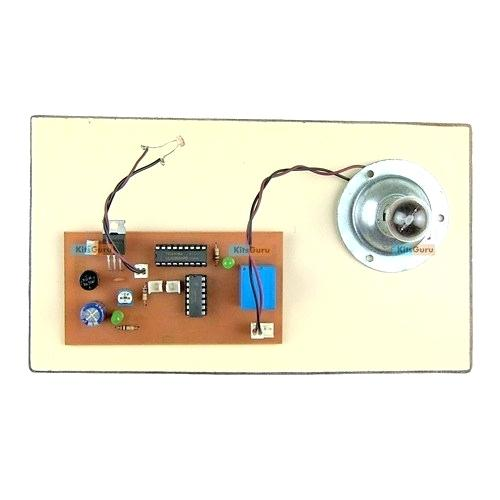resistor: (213, 246, 221, 263), (142, 286, 149, 302), (118, 325, 136, 331)
